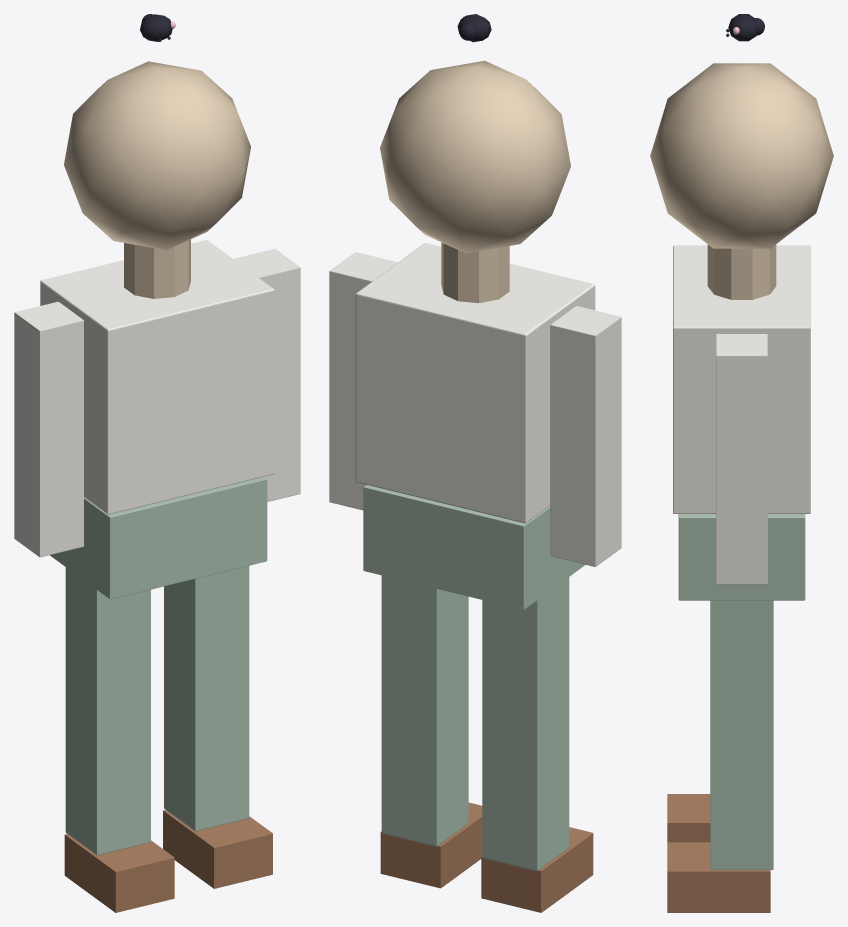
Rendered from mira-florist.glb.
The picture shows the model from 3 angles, left to right: view 1: azimuth 30°, elevation 25°; view 2: azimuth 150°, elevation 25°; view 3: azimuth 270°, elevation 25°; orthographic projection. The views are drawn at different scales.
Visible parts, largest first — view 1: mira-florist_Body, mira-florist_Head, mira-florist_LeftLeg, mira-florist_RightLeg, mira-florist_LeftArm, mira-florist_Hips, mira-florist_RightArm, mira-florist_LeftShoe, mira-florist_RightShoe, mira-florist_Neck, mira-florist_HairTop; view 2: mira-florist_Body, mira-florist_Head, mira-florist_LeftLeg, mira-florist_RightLeg, mira-florist_LeftArm, mira-florist_Hips, mira-florist_RightArm, mira-florist_LeftShoe, mira-florist_RightShoe, mira-florist_Neck; view 3: mira-florist_Head, mira-florist_Body, mira-florist_RightLeg, mira-florist_RightArm, mira-florist_Hips, mira-florist_RightShoe, mira-florist_Neck, mira-florist_LeftShoe, mira-florist_HairTop.
Boxes of the visible parts, x1=… form: mira-florist_Body: x1=40, y1=240, x2=274, y2=514; mira-florist_Head: x1=64, y1=61, x2=250, y2=250; mira-florist_LeftLeg: x1=65, y1=567, x2=150, y2=855; mira-florist_RightLeg: x1=164, y1=566, x2=249, y2=831; mira-florist_LeftArm: x1=14, y1=301, x2=83, y2=557; mira-florist_Hips: x1=50, y1=477, x2=267, y2=599; mira-florist_RightArm: x1=233, y1=249, x2=300, y2=501; mira-florist_LeftShoe: x1=64, y1=834, x2=174, y2=912; mira-florist_RightShoe: x1=163, y1=810, x2=272, y2=888; mira-florist_Neck: x1=124, y1=239, x2=190, y2=298; mira-florist_HairTop: x1=140, y1=14, x2=172, y2=41; mira-florist_Body: x1=355, y1=243, x2=595, y2=523; mira-florist_Head: x1=380, y1=60, x2=570, y2=253; mira-florist_LeftLeg: x1=482, y1=577, x2=569, y2=871; mira-florist_RightLeg: x1=381, y1=575, x2=468, y2=846; mira-florist_LeftArm: x1=550, y1=306, x2=621, y2=566; mira-florist_Hips: x1=363, y1=485, x2=585, y2=609; mira-florist_RightArm: x1=329, y1=252, x2=397, y2=510; mira-florist_LeftShoe: x1=481, y1=827, x2=593, y2=912; mira-florist_RightShoe: x1=380, y1=802, x2=482, y2=888; mira-florist_Neck: x1=441, y1=242, x2=509, y2=303; mira-florist_Head: x1=650, y1=63, x2=833, y2=248; mira-florist_Body: x1=673, y1=245, x2=810, y2=513; mira-florist_RightLeg: x1=710, y1=600, x2=773, y2=869; mira-florist_RightArm: x1=716, y1=334, x2=767, y2=584; mira-florist_Hips: x1=678, y1=514, x2=805, y2=600; mira-florist_RightShoe: x1=667, y1=842, x2=770, y2=912; mira-florist_Neck: x1=707, y1=244, x2=776, y2=299; mira-florist_LeftShoe: x1=667, y1=794, x2=710, y2=842; mira-florist_HairTop: x1=728, y1=14, x2=756, y2=41.
Size of the model in its own units: 0.53 by 1.65 by 0.32.
